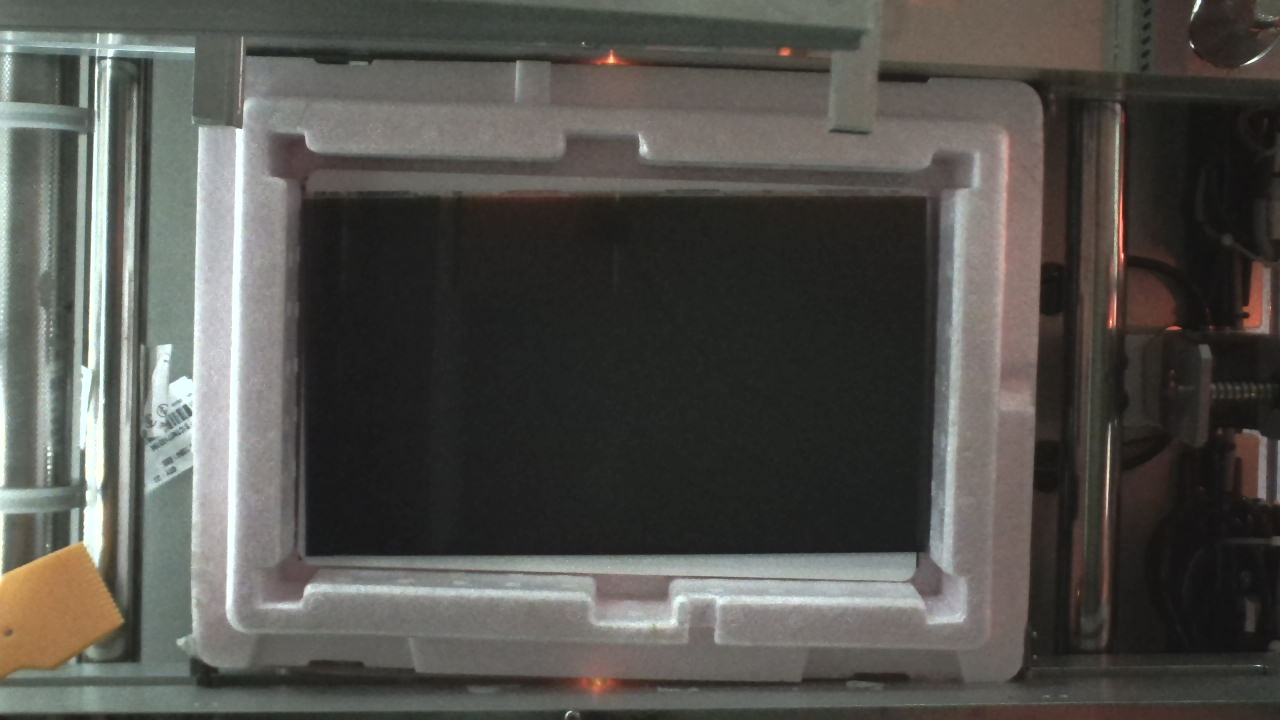OK: (189, 56, 1054, 691)
